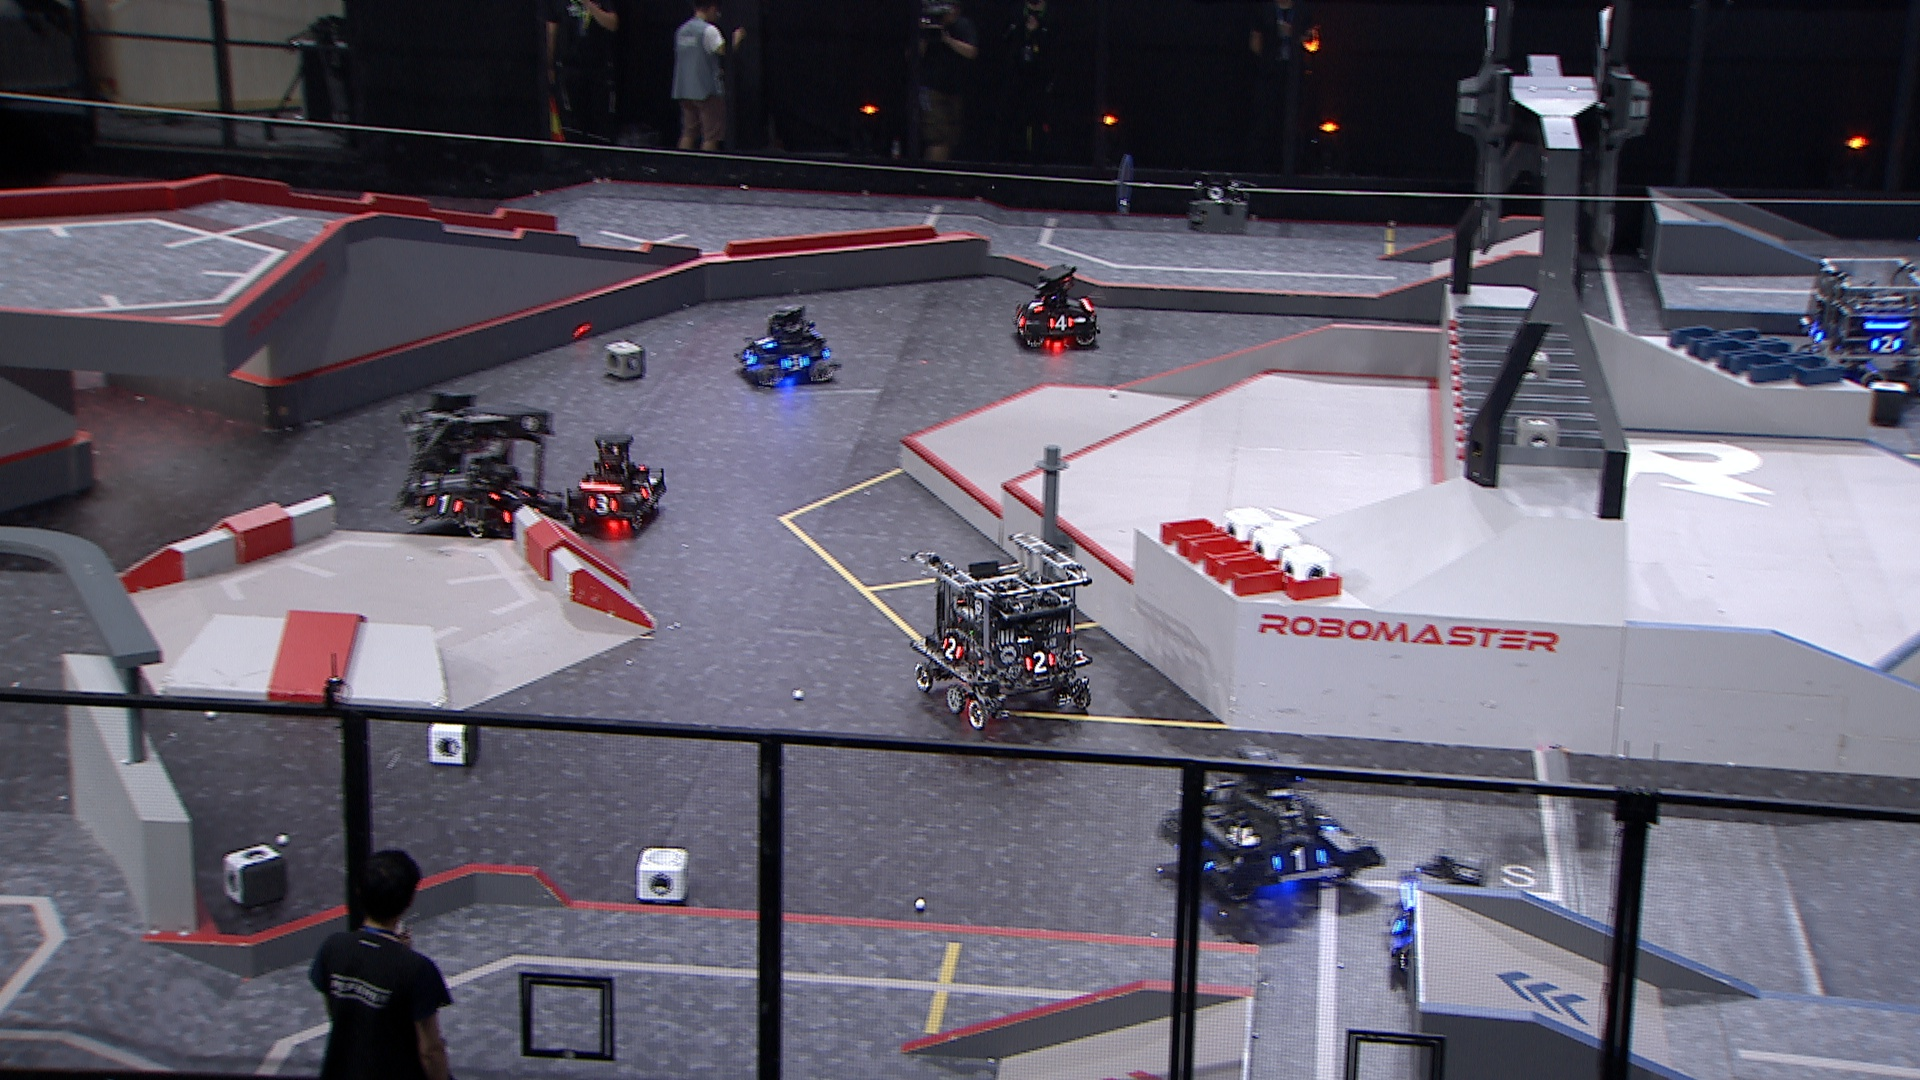armor: (1276, 845, 1328, 874), (1304, 800, 1338, 828), (425, 491, 463, 512), (1389, 906, 1408, 939), (491, 483, 527, 500), (1025, 651, 1054, 673), (1870, 335, 1902, 353), (781, 353, 808, 371), (940, 636, 961, 657), (1046, 315, 1076, 330), (589, 496, 613, 514), (1807, 320, 1825, 342), (1025, 295, 1043, 315), (638, 477, 655, 498), (736, 348, 760, 363), (1011, 309, 1027, 328), (756, 334, 774, 347)
car: (907, 531, 1098, 728), (1158, 741, 1379, 907), (394, 386, 567, 541), (1793, 256, 1920, 405), (1385, 849, 1503, 984), (560, 431, 662, 531), (733, 305, 841, 392), (1007, 264, 1100, 349)
